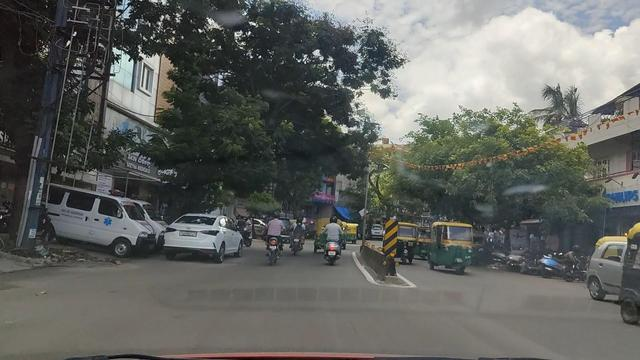LMV: (167, 213, 247, 272), (262, 214, 288, 269), (319, 211, 344, 267)
